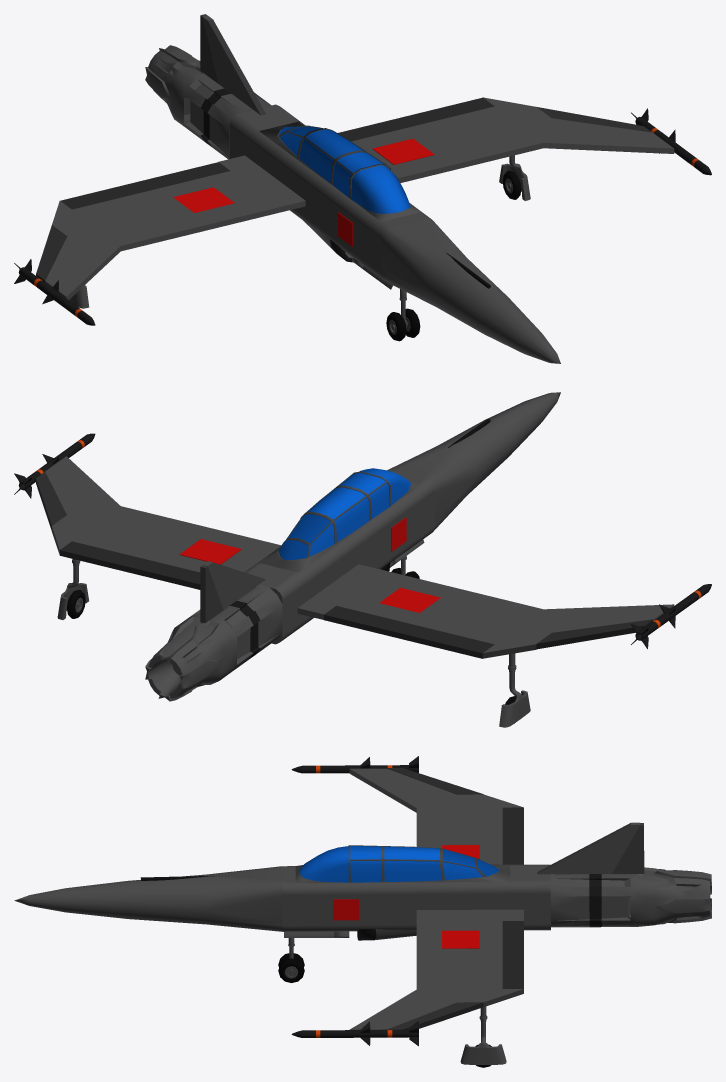
3 views of the same model, one above another, from view 1: azimuth 30°, elevation 25°; view 2: azimuth 150°, elevation 25°; view 3: azimuth 270°, elevation 25° (orthographic). The views are drawn at different scales.
Visible parts, largest first — view 1: S-90_Body, S-90_Elevators, S-90_Gear_F, S-90_Gear__L_S-90_Gear_L, S-90_Flap_R, S-90_Flap_L, S-90_Rudder; view 2: S-90_Body, S-90_Elevators, S-90_Flap_R, S-90_Gear_R, S-90_Gear__L_S-90_Gear_L, S-90_Rudder, S-90_Flap_L; view 3: S-90_Body, S-90_Elevators, S-90_Gear__L_S-90_Gear_L, S-90_Flap_L, S-90_Rudder, S-90_Gear_F, S-90_Flap_R.
Boxes of the visible parts, x1=… form: S-90_Body: x1=14, y1=15, x2=711, y2=363; S-90_Elevators: x1=60, y1=97, x2=494, y2=209; S-90_Gear_F: x1=386, y1=289, x2=420, y2=341; S-90_Gear__L_S-90_Gear_L: x1=499, y1=155, x2=530, y2=200; S-90_Flap_R: x1=36, y1=225, x2=67, y2=282; S-90_Flap_L: x1=537, y1=107, x2=651, y2=132; S-90_Rudder: x1=200, y1=14, x2=218, y2=83; S-90_Body: x1=14, y1=392, x2=711, y2=701; S-90_Elevators: x1=60, y1=541, x2=494, y2=658; S-90_Flap_R: x1=536, y1=619, x2=652, y2=649; S-90_Gear_R: x1=499, y1=653, x2=530, y2=727; S-90_Gear__L_S-90_Gear_L: x1=57, y1=559, x2=88, y2=619; S-90_Rudder: x1=200, y1=565, x2=223, y2=623; S-90_Flap_L: x1=36, y1=472, x2=66, y2=529; S-90_Body: x1=14, y1=756, x2=711, y2=1046; S-90_Elevators: x1=502, y1=807, x2=523, y2=988; S-90_Gear__L_S-90_Gear_L: x1=460, y1=1006, x2=506, y2=1067; S-90_Flap_L: x1=387, y1=1002, x2=483, y2=1029; S-90_Rudder: x1=612, y1=823, x2=644, y2=873; S-90_Gear_F: x1=278, y1=938, x2=304, y2=982; S-90_Flap_R: x1=387, y1=768, x2=483, y2=794.
Size of the model in its own units: 11.99 by 3.2 by 13.
